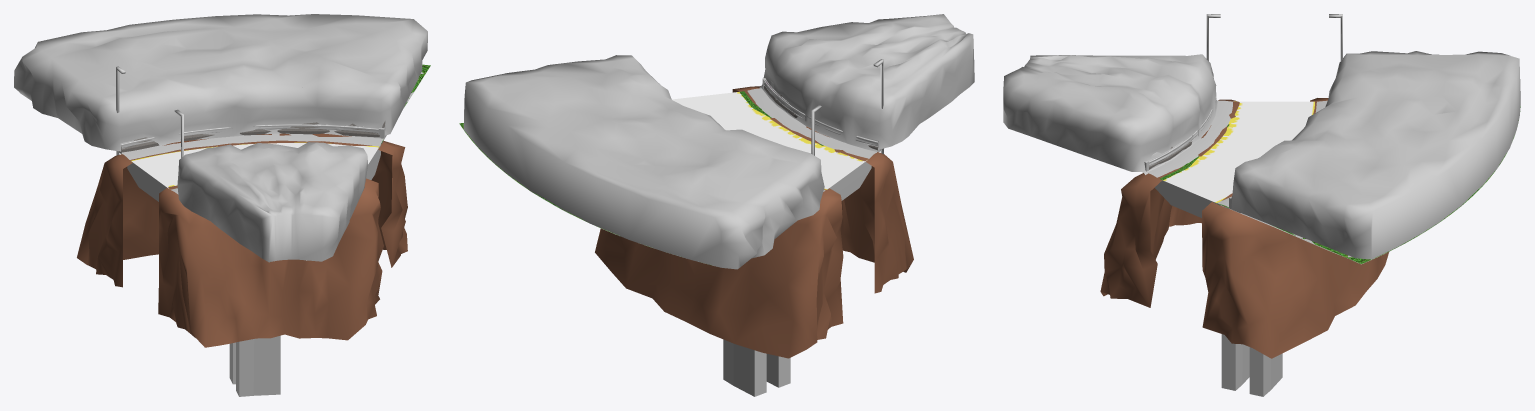
File: RoadRight_LOD1.fbx
The picture shows the model from 3 angles, left to right: view 1: azimuth 30°, elevation 25°; view 2: azimuth 150°, elevation 25°; view 3: azimuth 270°, elevation 25°; orthographic projection. The views are drawn at different scales.
Visible parts, largest first — view 1: MountainLeft, CliffRight, MountainRight, CliffLeft, Road, PianoLeft, Road Mask, ConcreteWallLeft, RailGuardLeft; view 2: MountainLeft, CliffLeft, MountainRight, CliffRight, Road Mask, Road, PianoRight, RailGuardRight; view 3: MountainLeft, MountainRight, CliffLeft, CliffRight, Road Mask, Road, PianoRight.
Boxes of the visible parts, x1,y1,x2,y2 form: MountainLeft: (14,14,427,154); CliffRight: (158,178,383,347); MountainRight: (177,142,367,262); CliffLeft: (77,133,407,287); Road: (127,145,380,396); PianoLeft: (122,77,423,159); Road Mask: (131,142,378,188); ConcreteWallLeft: (119,121,385,153); RailGuardLeft: (121,124,378,148); MountainLeft: (463,55,824,269); CliffLeft: (595,188,843,358); MountainRight: (759,14,974,152); CliffRight: (732,86,913,293); Road Mask: (672,92,867,189); Road: (723,161,871,396); PianoRight: (747,88,877,158); RailGuardRight: (764,80,878,146); MountainLeft: (1231,51,1520,259); MountainRight: (1003,54,1217,174); CliffLeft: (1202,98,1388,358); CliffRight: (1100,99,1239,307); Road Mask: (1163,101,1314,202); Road: (1154,180,1282,396); PianoRight: (1147,100,1233,177).
Size of what is drawn, in the model's own units: 886 by 755 by 1105.
